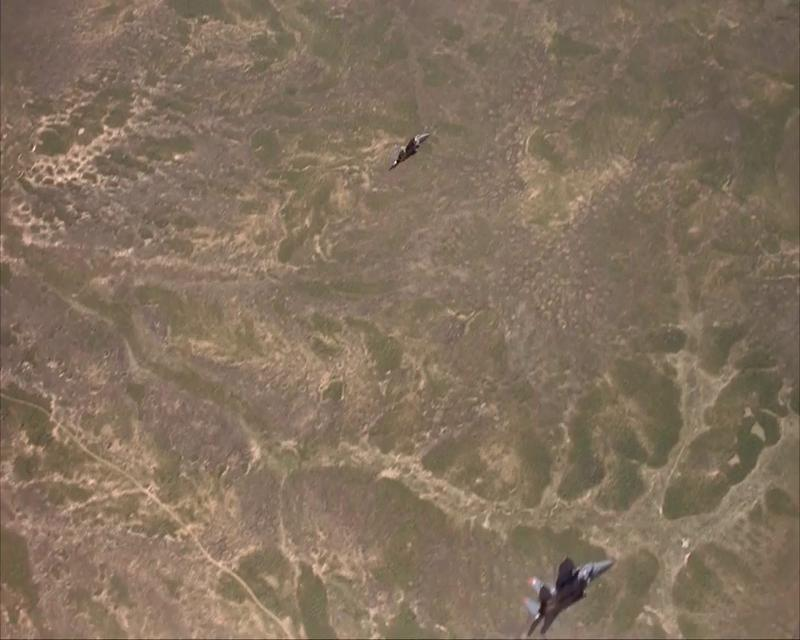UAV: (526, 555, 615, 638), (389, 132, 430, 171)
